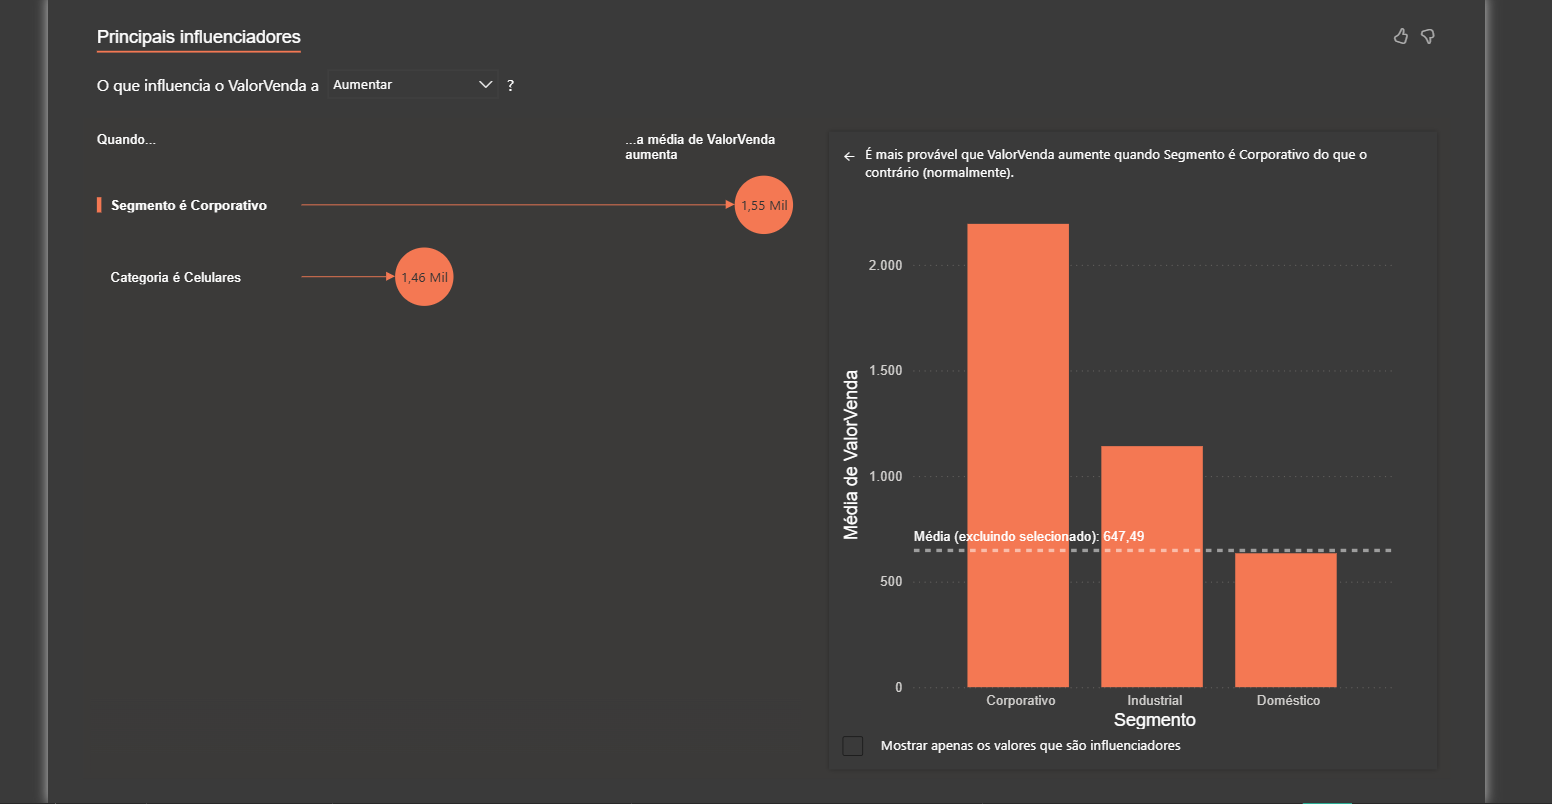

The page's visual inventory and layout, read from the dashboard file:
{"tool":"powerbi","page":{"name":"Principais Influenciadores de Vendas","canvas":[1280,720],"ordinal":2},"visuals":[{"type":"keyDriversVisual","fields":{"Target":["Vendas.ValorVenda"],"ExplainBy":["Vendas.Segmento","Vendas.Categoria"]},"box":[27,14.7,1227,688.3],"z":0}]}

Visuals, with their boxes on the page's 1280x720 design canvas (x1, y1, x2, y2). These are canvas units, not pixel positions in the 1552x804 screenshot, which may show the page scaled, cropped or inside an application window:
keyDriversVisual - Vendas.ValorVenda x Vendas.Segmento: left=27, top=15, right=1254, bottom=703
